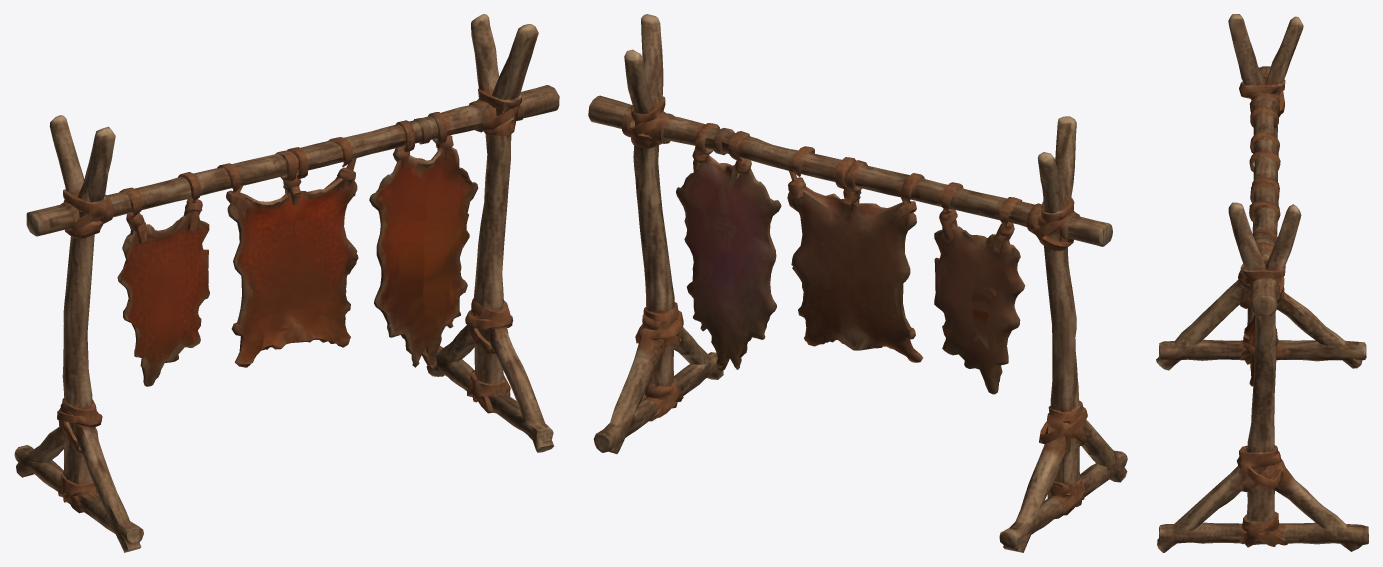
File: drying-rack-model.glb
The picture shows the model from 3 angles, left to right: view 1: azimuth 30°, elevation 25°; view 2: azimuth 150°, elevation 25°; view 3: azimuth 270°, elevation 25°; orthographic projection. The views are drawn at different scales.
Visible parts, largest first — view 1: drying-rack.001; view 2: drying-rack.001; view 3: drying-rack.001.
Boxes of the visible parts, x1,y1,x2,y2 form: drying-rack.001: [14, 14, 559, 552]; drying-rack.001: [588, 14, 1127, 552]; drying-rack.001: [1156, 14, 1368, 552].
Size of the model in its own units: 3.33 by 2.4 by 1.29.
Materials: 1 (1 with a texture image).
